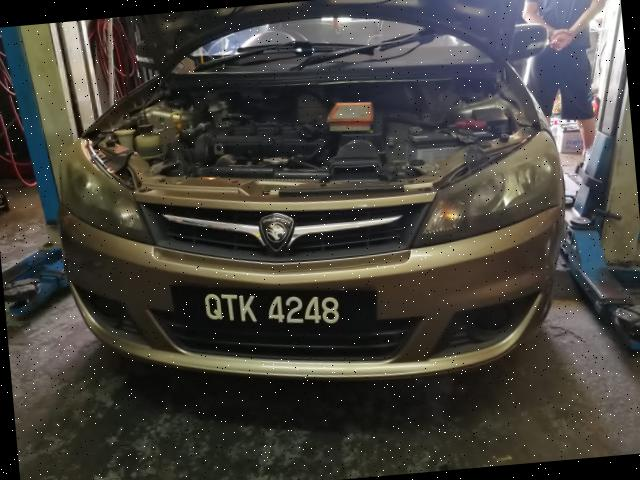License_Plate: (171, 268, 382, 356)
car: (27, 1, 575, 415)
